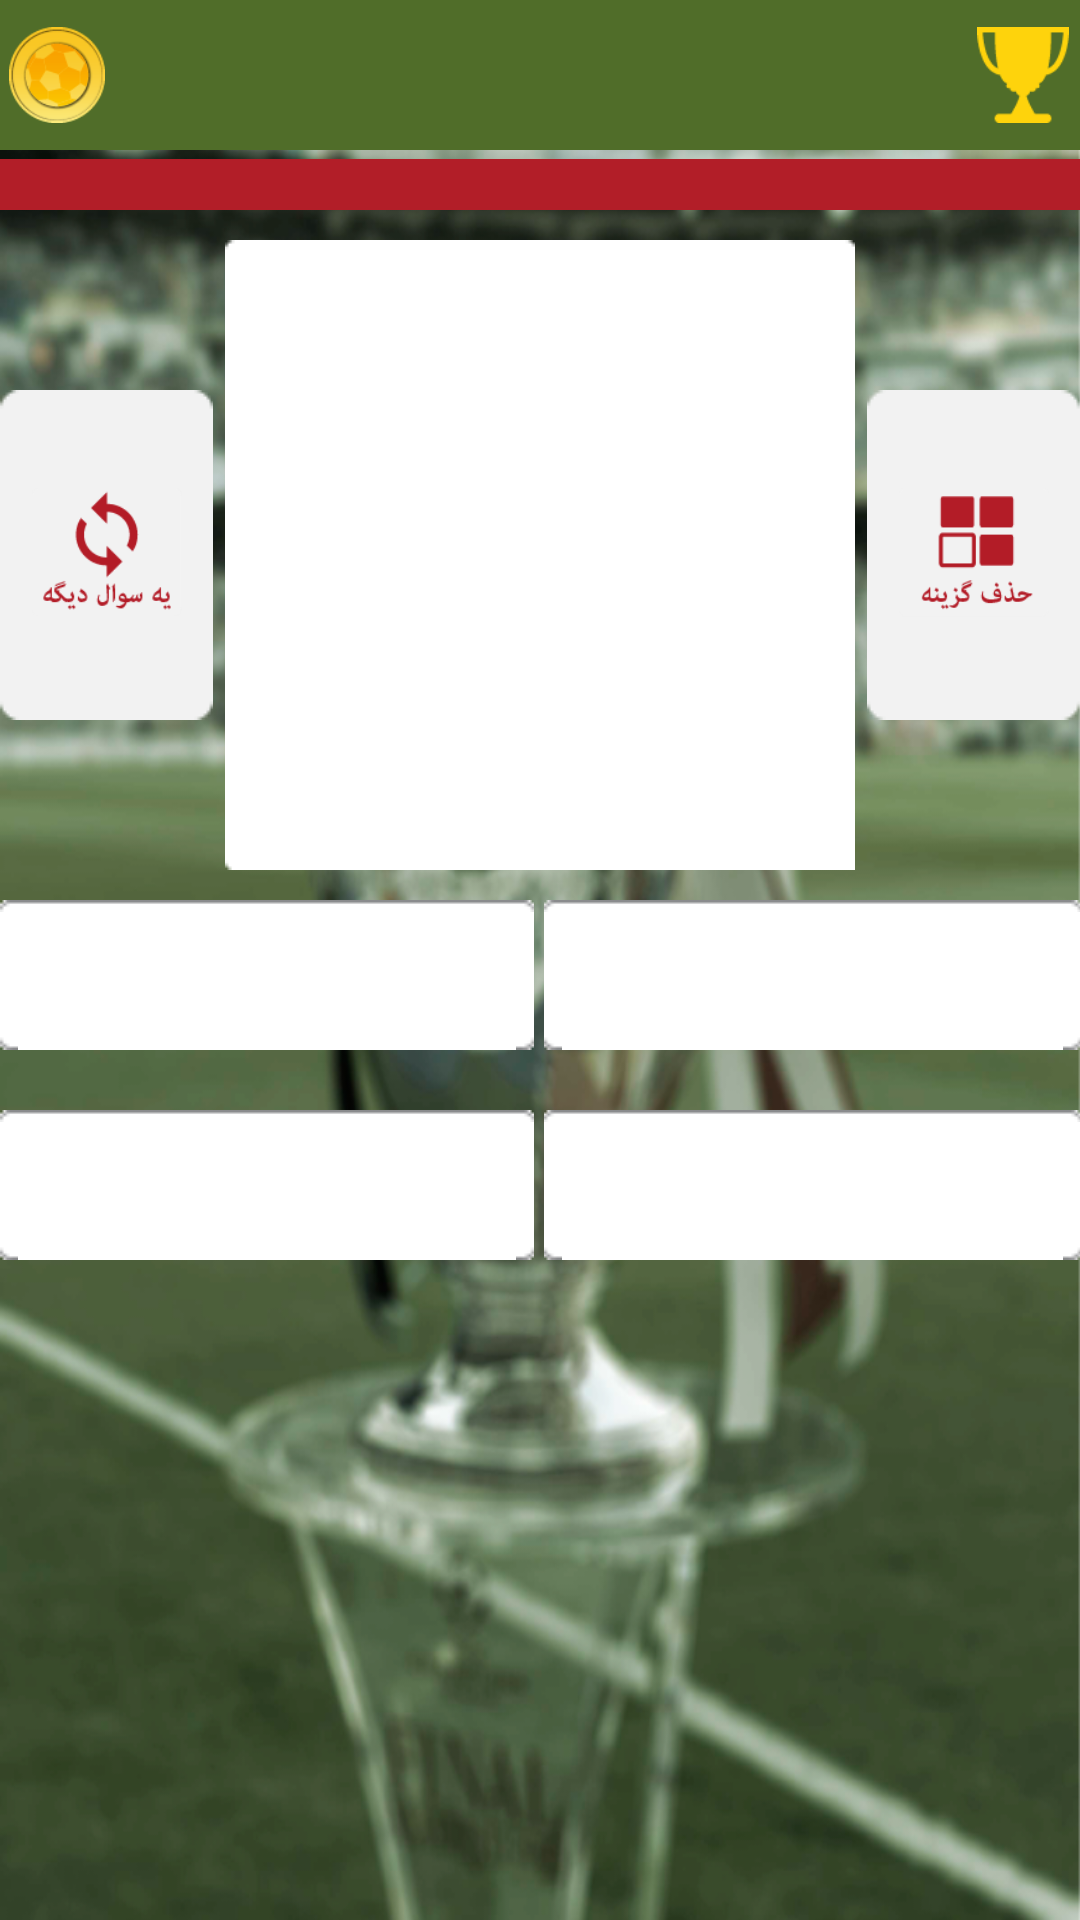

Screen size 1080 × 1920. Icon name, then its box in pixels as (x1, y1, x2, y2):
coin: (9, 27, 105, 123)
replace on: (43, 492, 171, 610)
